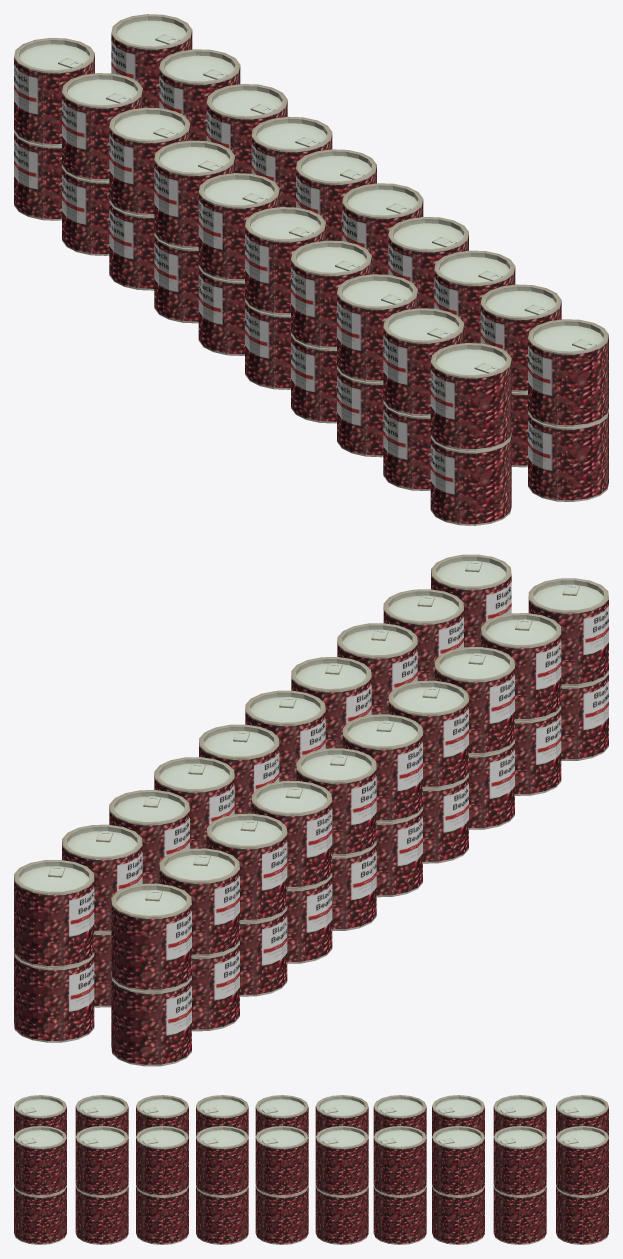
File: blackbeanspile.fbx
3 views of the same model, one above another, from view 1: azimuth 30°, elevation 25°; view 2: azimuth 150°, elevation 25°; view 3: azimuth 270°, elevation 25° (orthographic). The views are drawn at different scales.
Parts seen in each view (by area): view 1: BlackBeansPile; view 2: BlackBeansPile; view 3: BlackBeansPile.
Boxes of the visible parts, <box> form: BlackBeansPile: <box>14,14,608,525</box>; BlackBeansPile: <box>14,554,608,1066</box>; BlackBeansPile: <box>14,1095,608,1244</box>.
Bounding box in the file's own units: 76.55 × 64.86 × 362.
